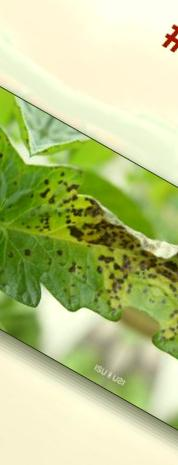Tomato Septoria leaf spot: (0, 147, 178, 369)
